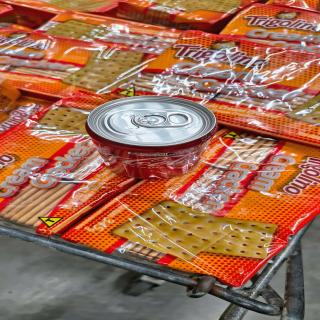beverage: (89, 95, 202, 182)
food-box: (168, 30, 320, 103), (8, 36, 145, 94)
